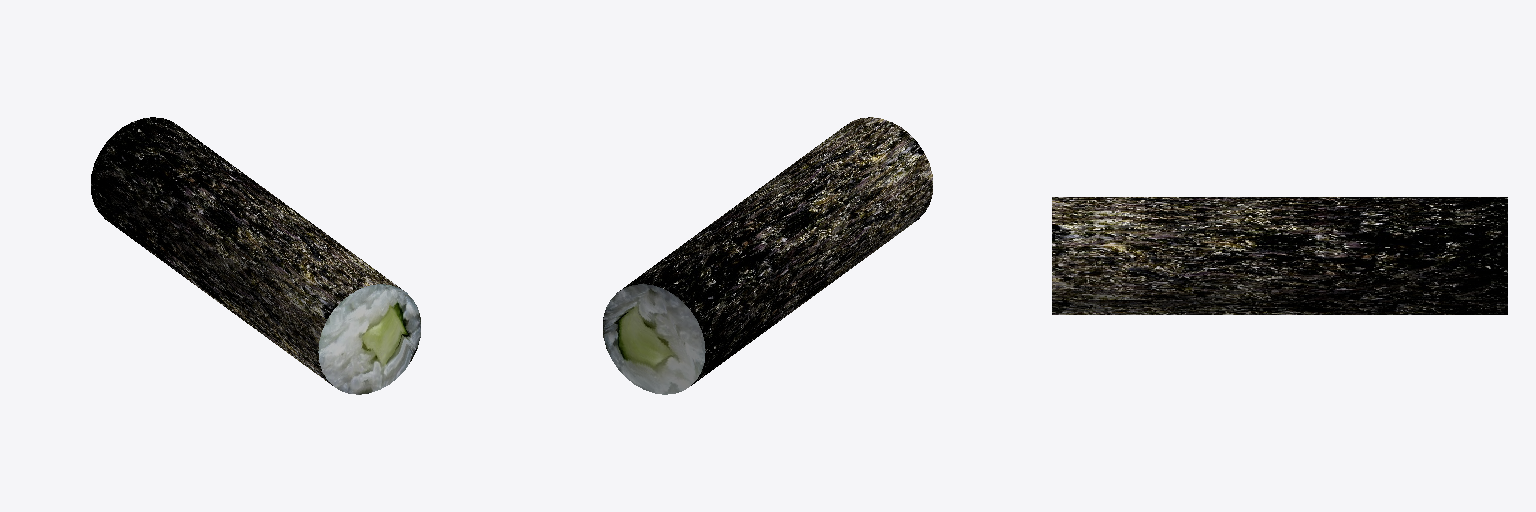
3 renders of one model, left to right at view 1: azimuth 30°, elevation 25°; view 2: azimuth 150°, elevation 25°; view 3: azimuth 270°, elevation 25°, orthographic.
Parts seen in each view (by area): view 1: Cylinder; view 2: Cylinder; view 3: Cylinder.
Part boxes in pixels (left/top/right/bottom): Cylinder: left=91, top=117, right=420, bottom=394; Cylinder: left=603, top=117, right=932, bottom=394; Cylinder: left=1052, top=197, right=1507, bottom=314.
Size of the model in its own units: 0.2819 by 0.2819 by 1.08.
2 materials, 2 textured.